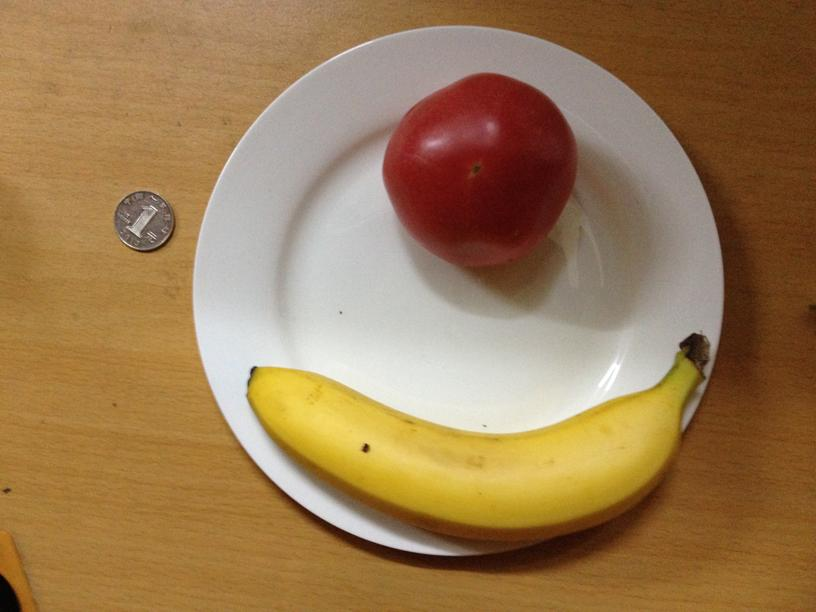banana: (247, 352, 704, 546)
coin: (113, 190, 173, 251)
tomato: (385, 68, 576, 272)
